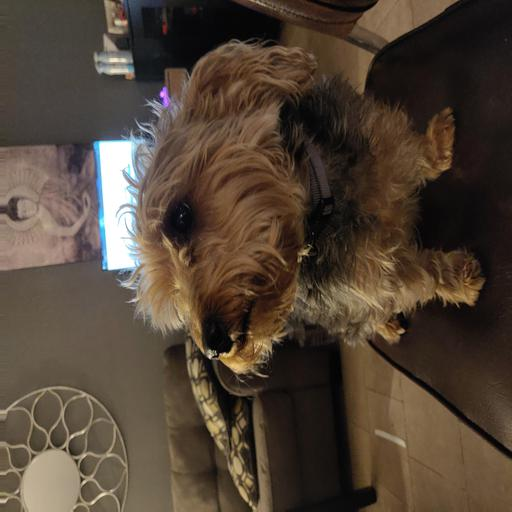dog: (91, 49, 398, 356)
